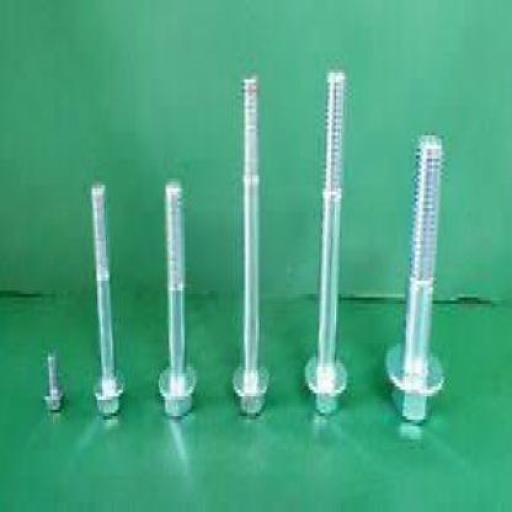Bolt: (384, 134, 446, 423), (305, 70, 348, 417), (232, 76, 270, 418), (158, 181, 197, 419), (90, 183, 124, 418), (44, 353, 63, 412)
